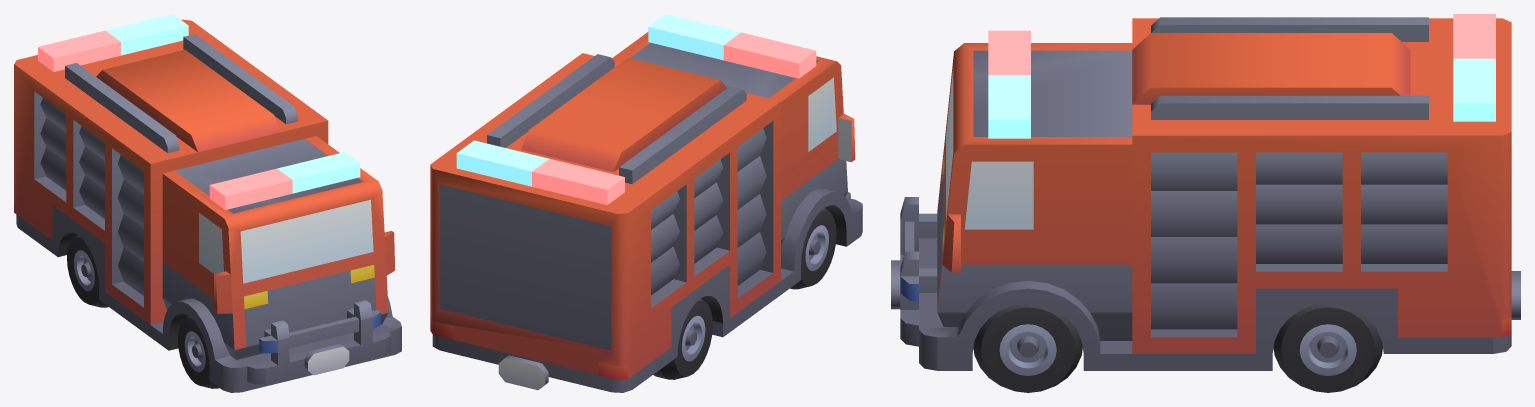
File: firetruck.glb
3 views of the same model, side by side, from view 1: azimuth 30°, elevation 25°; view 2: azimuth 150°, elevation 25°; view 3: azimuth 270°, elevation 25° (orthographic). The views are drawn at different scales.
Parts seen in each view (by area): view 1: body, grill, SirenFrontLeft, SirenRearLeft, SirenFrontRight, SirenRearRight, wheel-front-right, wheel-back-right; view 2: body, SirenFrontLeft, SirenRearLeft, SirenFrontRight, SirenRearRight, wheel-back-right, wheel-front-right; view 3: body, wheel-front-left, wheel-back-left, grill, SirenFrontRight, SirenRearRight, SirenFrontLeft, SirenRearLeft.
Part boxes in pixels (x1,y1,x2,y2): body: [14, 19, 401, 392]; grill: [247, 300, 390, 384]; SirenFrontLeft: [209, 168, 292, 209]; SirenRearLeft: [38, 30, 120, 71]; SirenFrontRight: [277, 152, 360, 193]; SirenRearRight: [105, 14, 188, 55]; wheel-front-right: [177, 316, 219, 388]; wheel-back-right: [67, 234, 108, 307]; body: [430, 32, 862, 392]; SirenFrontLeft: [723, 32, 816, 78]; SirenRearLeft: [532, 158, 624, 204]; SirenFrontRight: [648, 14, 740, 60]; SirenRearRight: [456, 140, 548, 186]; wheel-back-right: [653, 298, 712, 379]; wheel-front-right: [790, 208, 836, 289]; body: [919, 17, 1520, 370]; wheel-front-left: [973, 303, 1082, 392]; wheel-back-left: [1273, 303, 1382, 392]; grill: [891, 197, 937, 346]; SirenFrontRight: [988, 75, 1030, 138]; SirenRearRight: [1453, 58, 1495, 121]; SirenFrontLeft: [988, 30, 1030, 75]; SirenRearLeft: [1453, 14, 1495, 58].
Size of the model in its own units: 1.5 by 1.71 by 3.4.
Materials: 3 (1 with a texture image).
